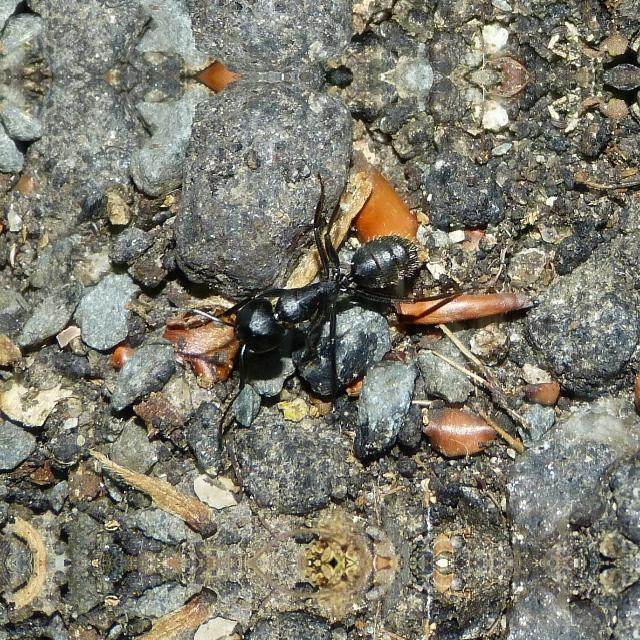Camponotus: (205, 216, 472, 380)
